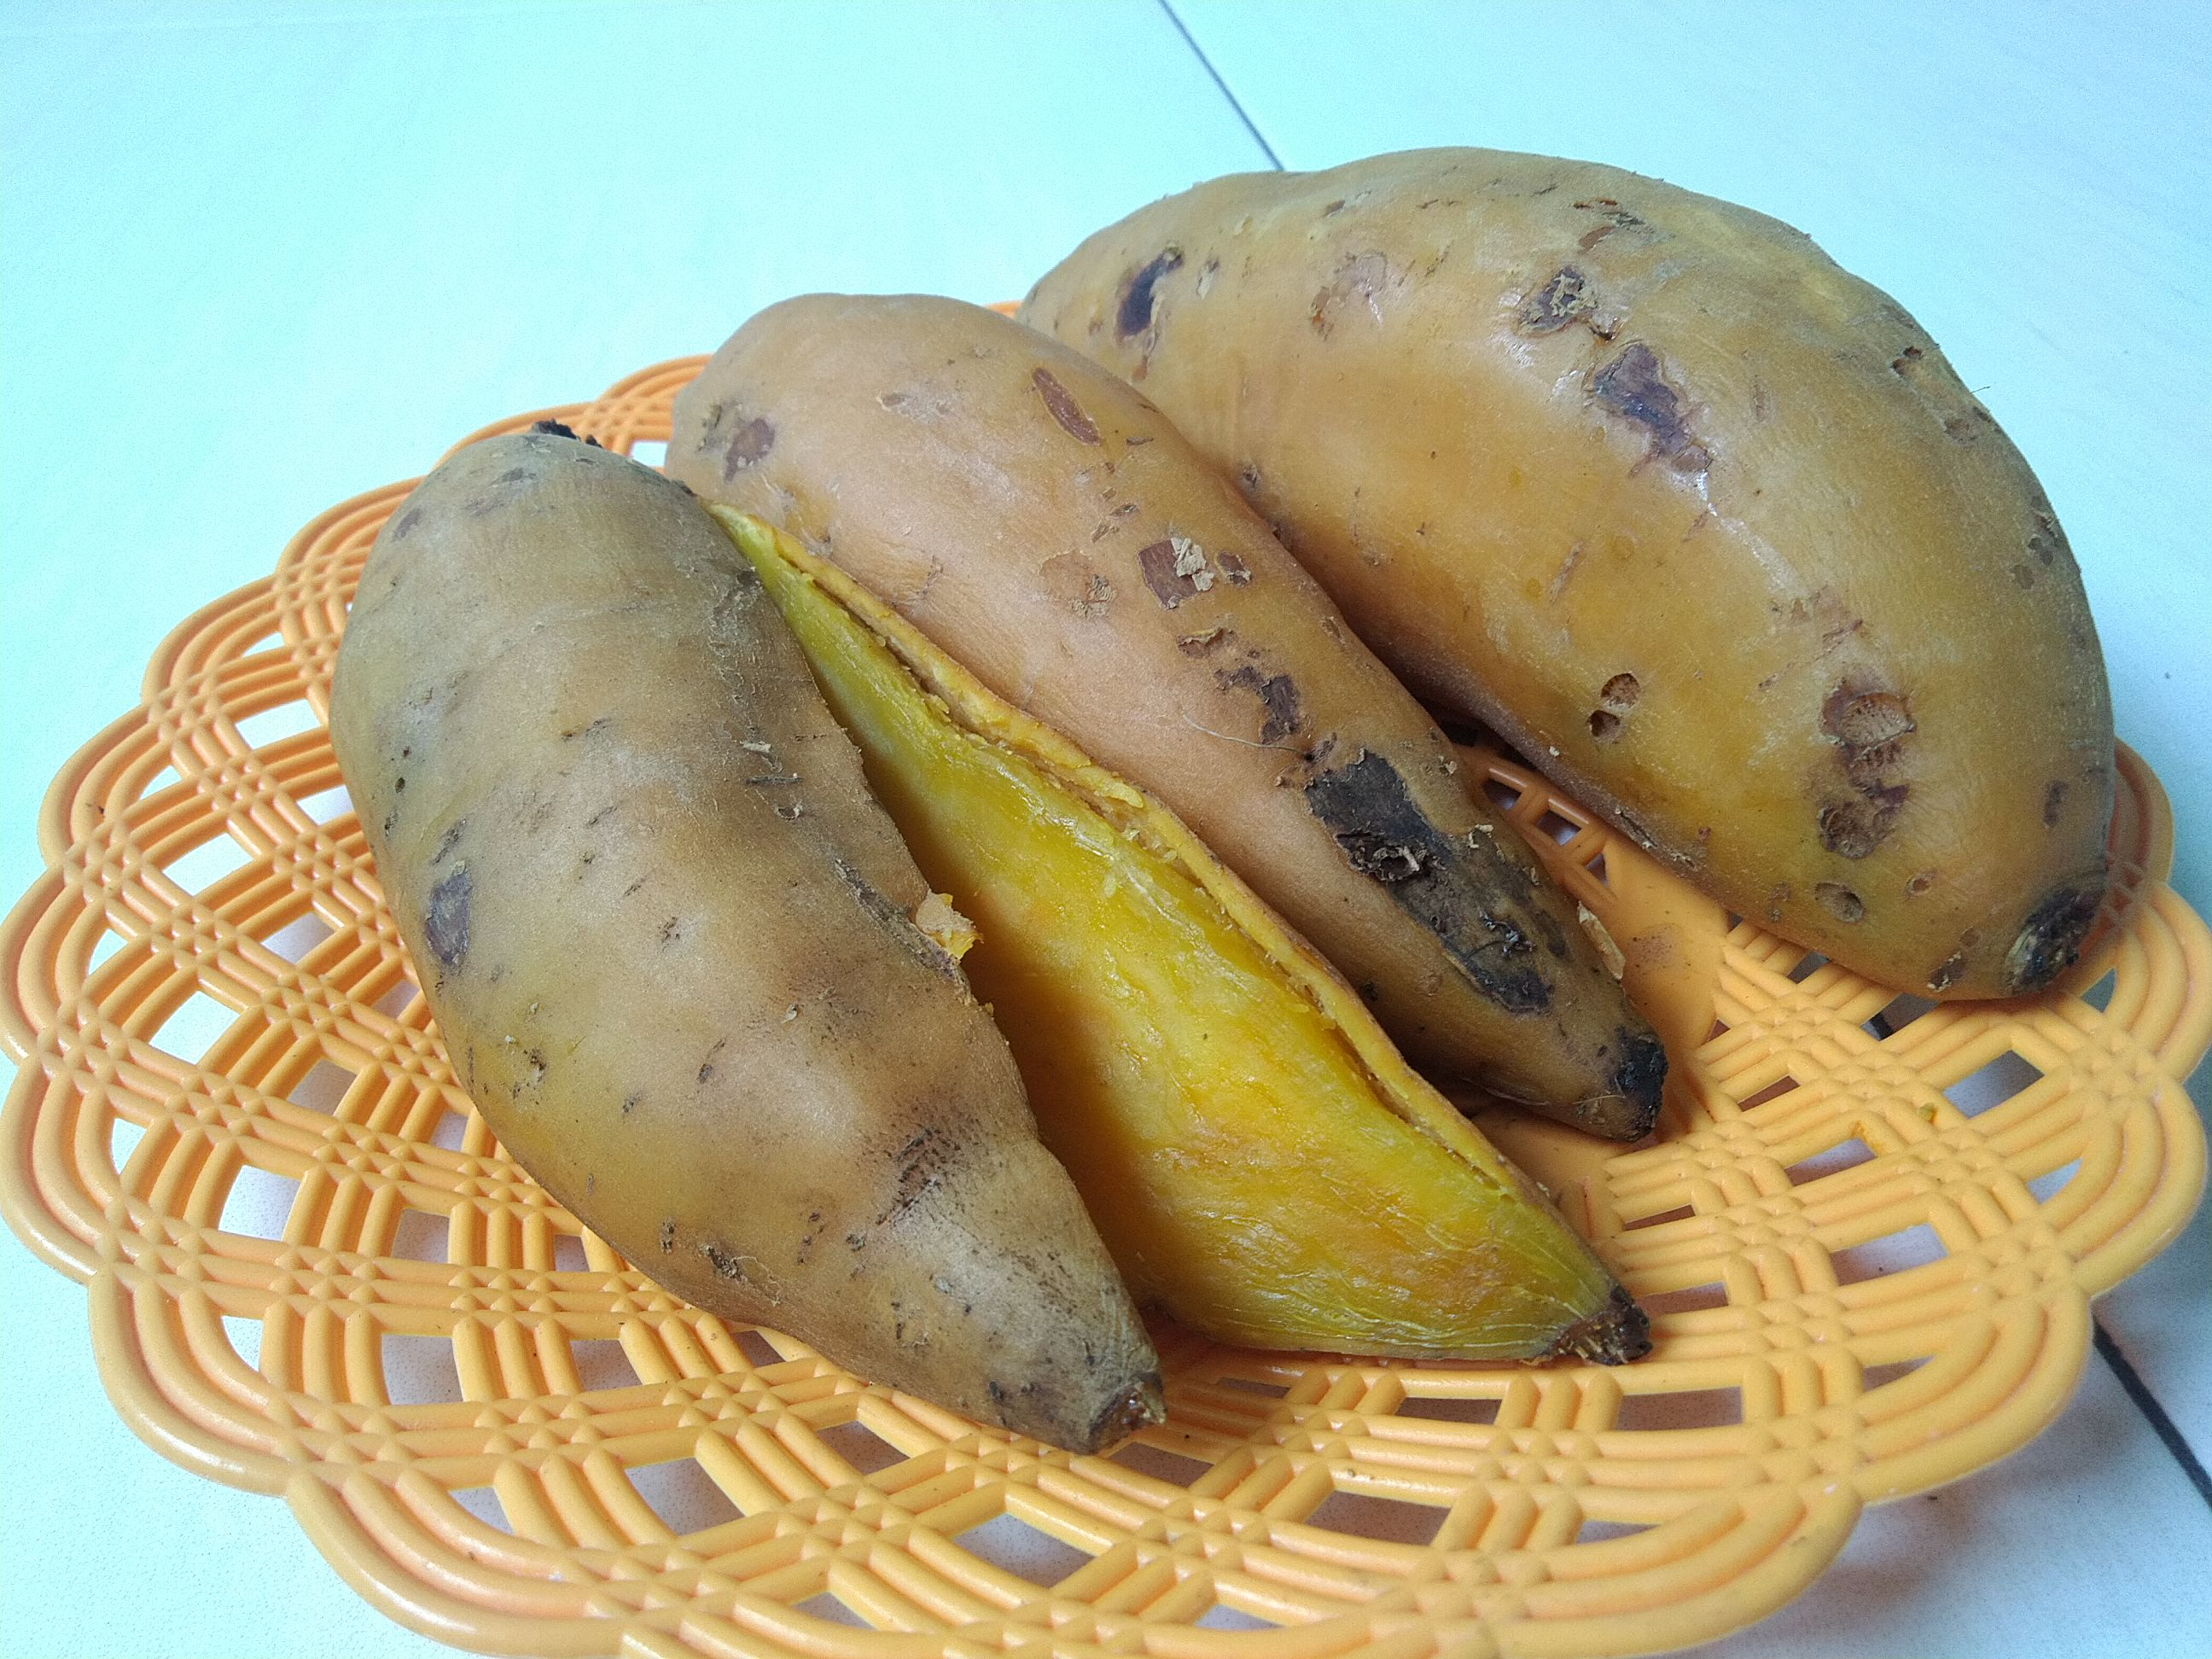ubi cilembu: (1028, 145, 2130, 1019), (671, 277, 1714, 1182), (331, 408, 1190, 1486), (705, 511, 1683, 1396)
